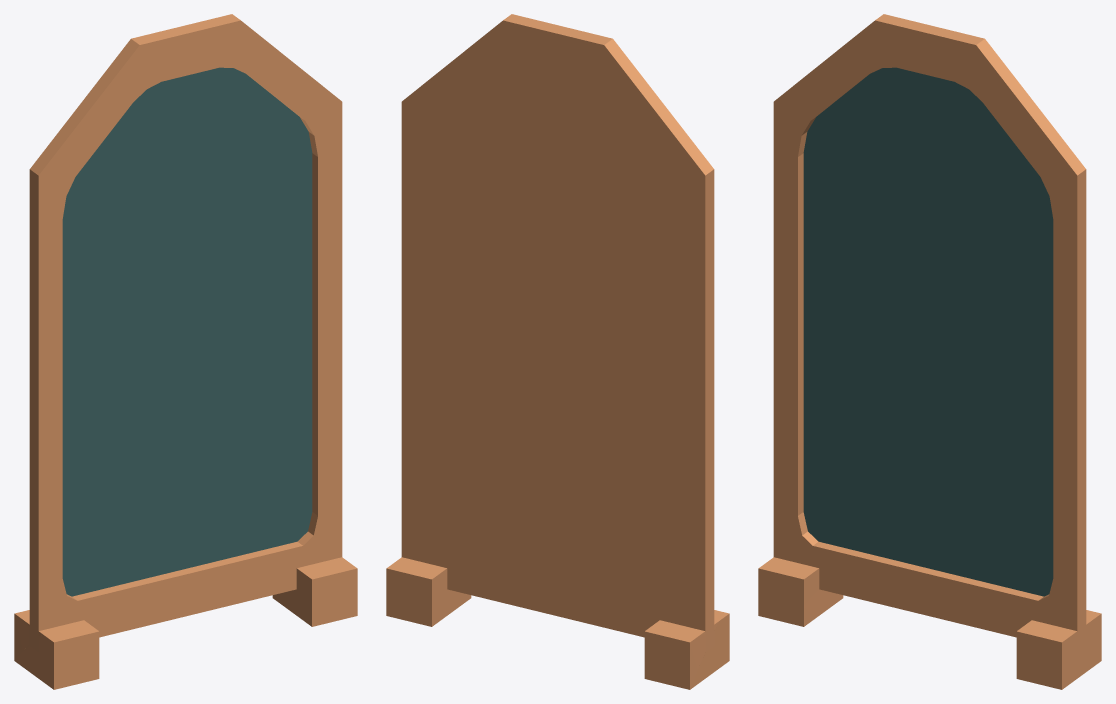
Rendered from Mirror_Break.fbx.
3 views of the same model, side by side, from view 1: azimuth 30°, elevation 25°; view 2: azimuth 150°, elevation 25°; view 3: azimuth 330°, elevation 25° (orthographic).
Visible parts, largest first — view 1: Mirror, Mirror_cell.001, Mirror_cell.007, Mirror_cell.006, Mirror_cell.003, Mirror_cell.002, Mirror_cell.009, Mirror_cell.008, Mirror_cell.005, Mirror_cell, Mirror_cell.004; view 2: Mirror, Mirror_cell.006, Mirror_cell.008, Mirror_cell.005, Mirror_cell, Mirror_cell.004, Mirror_cell.009, Mirror_cell.003, Mirror_cell.007; view 3: Mirror, Mirror_cell.001, Mirror_cell.007, Mirror_cell.003, Mirror_cell.006, Mirror_cell.002, Mirror_cell, Mirror_cell.008.
Boxes of the visible parts, x1,y1,x2,y2 form: Mirror: [14, 14, 357, 689]; Mirror_cell.001: [99, 69, 342, 368]; Mirror_cell.007: [29, 67, 271, 311]; Mirror_cell.006: [29, 300, 175, 618]; Mirror_cell.003: [36, 18, 300, 309]; Mirror_cell.002: [288, 358, 356, 622]; Mirror_cell.009: [14, 636, 53, 689]; Mirror_cell.008: [161, 544, 290, 577]; Mirror_cell.005: [288, 356, 313, 598]; Mirror_cell: [14, 575, 161, 650]; Mirror_cell.004: [24, 607, 86, 638]; Mirror: [392, 14, 729, 689]; Mirror_cell.006: [523, 300, 714, 612]; Mirror_cell.008: [454, 369, 581, 621]; Mirror_cell.005: [386, 353, 453, 626]; Mirror_cell: [574, 559, 705, 689]; Mirror_cell.004: [558, 485, 718, 634]; Mirror_cell.009: [691, 615, 729, 685]; Mirror_cell.003: [509, 14, 714, 300]; Mirror_cell.007: [604, 43, 710, 305]; Mirror: [758, 14, 1101, 689]; Mirror_cell.001: [845, 120, 1086, 426]; Mirror_cell.007: [803, 67, 1017, 269]; Mirror_cell.003: [773, 19, 1037, 246]; Mirror_cell.006: [773, 244, 929, 544]; Mirror_cell.002: [1024, 424, 1081, 674]; Mirror_cell: [804, 551, 906, 617]; Mirror_cell.008: [901, 563, 1025, 636].
Size of the model in its own units: 79.58 by 153 by 17.95.
